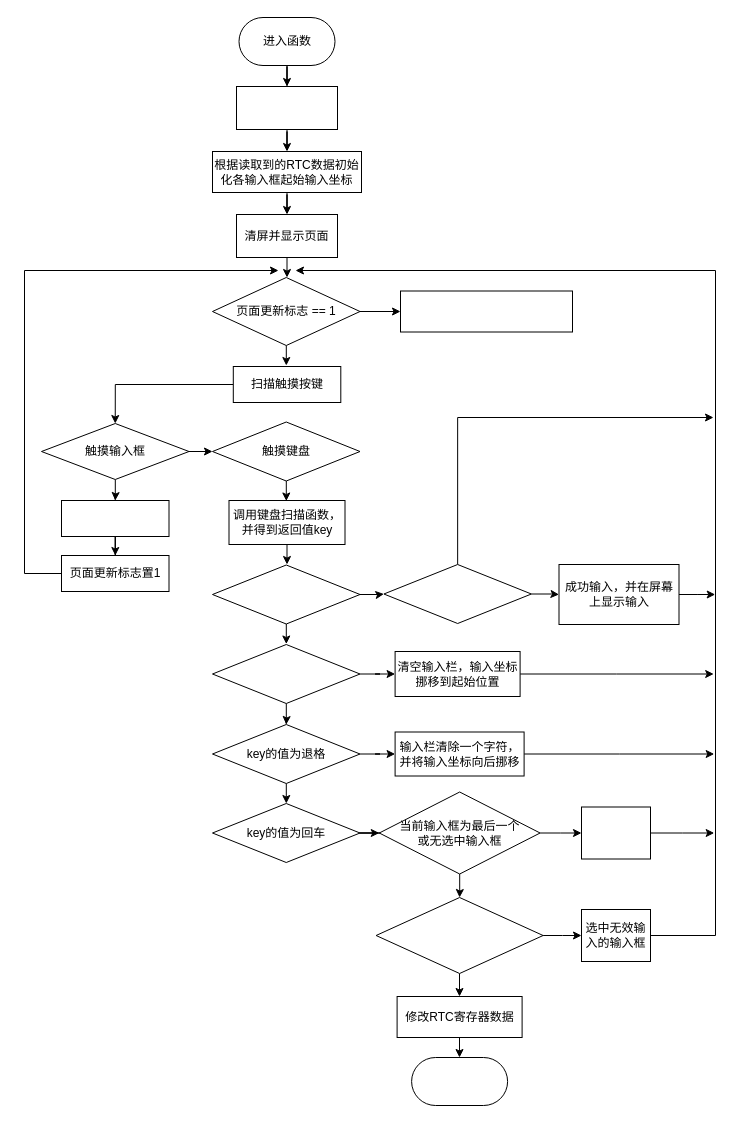
Some shapes in this 741 by 1123 pixel diagram are drawn without their labels. The shapes that lost their labels are listed below. From the top down, each one's box as (x1, y1, x2, y2) in pixels, then its label:
(236, 86, 338, 130): 读取RTC寄存器
(400, 290, 572, 332): 将所有输入框调整到正常颜色，而后将选中的输入框亮红显示
(60, 500, 169, 536): 选中对应输入框
(212, 564, 360, 624): key的值为数字字符
(383, 564, 531, 624): 输入栏未超过输入限制
(212, 644, 360, 704): key的值为清除
(580, 806, 650, 859): 选中下一个输入框
(375, 896, 543, 974): 所有输入框中的 当前数值为有效值
(411, 1056, 508, 1106): 退出函数
